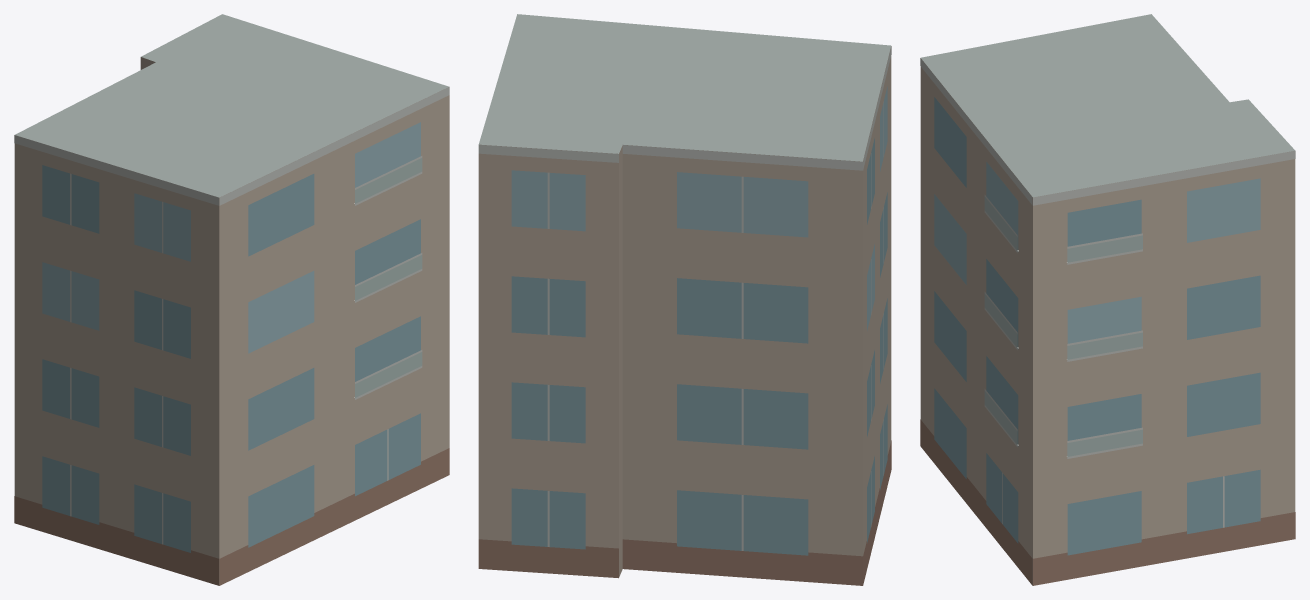
Rendered from survey-upis-32641597.glb.
3 renders of one model, left to right at view 1: azimuth 30°, elevation 25°; view 2: azimuth 150°, elevation 25°; view 3: azimuth 270°, elevation 25°, orthographic. The views are drawn at different scales.
Parts seen in each view (by area): view 1: survey-upis-32641597.tmp; view 2: survey-upis-32641597.tmp; view 3: survey-upis-32641597.tmp.
Boxes of the visible parts, x1=… form: survey-upis-32641597.tmp: x1=14, y1=14, x2=449, y2=585; survey-upis-32641597.tmp: x1=478, y1=14, x2=891, y2=585; survey-upis-32641597.tmp: x1=920, y1=14, x2=1295, y2=585.
Bounding box in the file's own units: 11.55 × 11.4 × 9.98.
